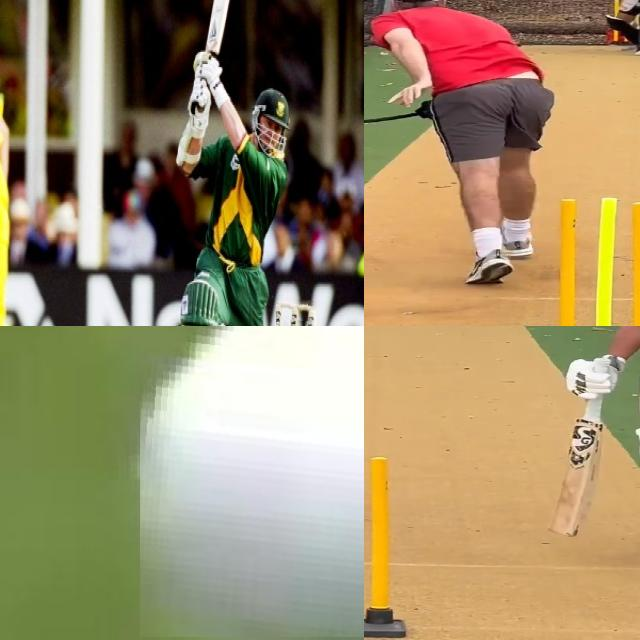Cricket ball: (139, 326, 364, 637)
Stumps: (539, 196, 640, 326), (364, 451, 407, 639)
